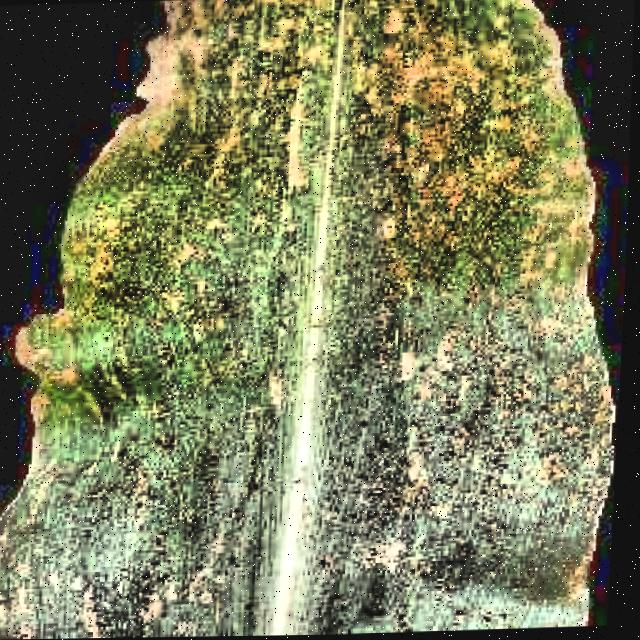common_rust: (24, 0, 600, 639)
